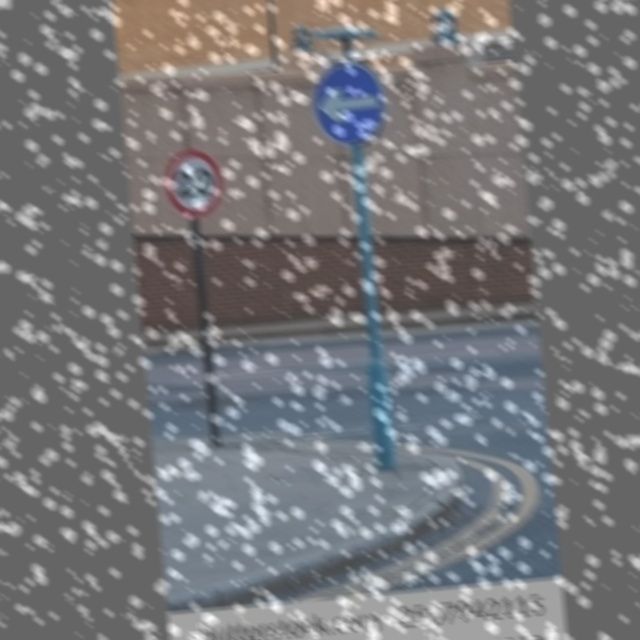Compulsory_Turn_Left: (308, 58, 389, 148)
